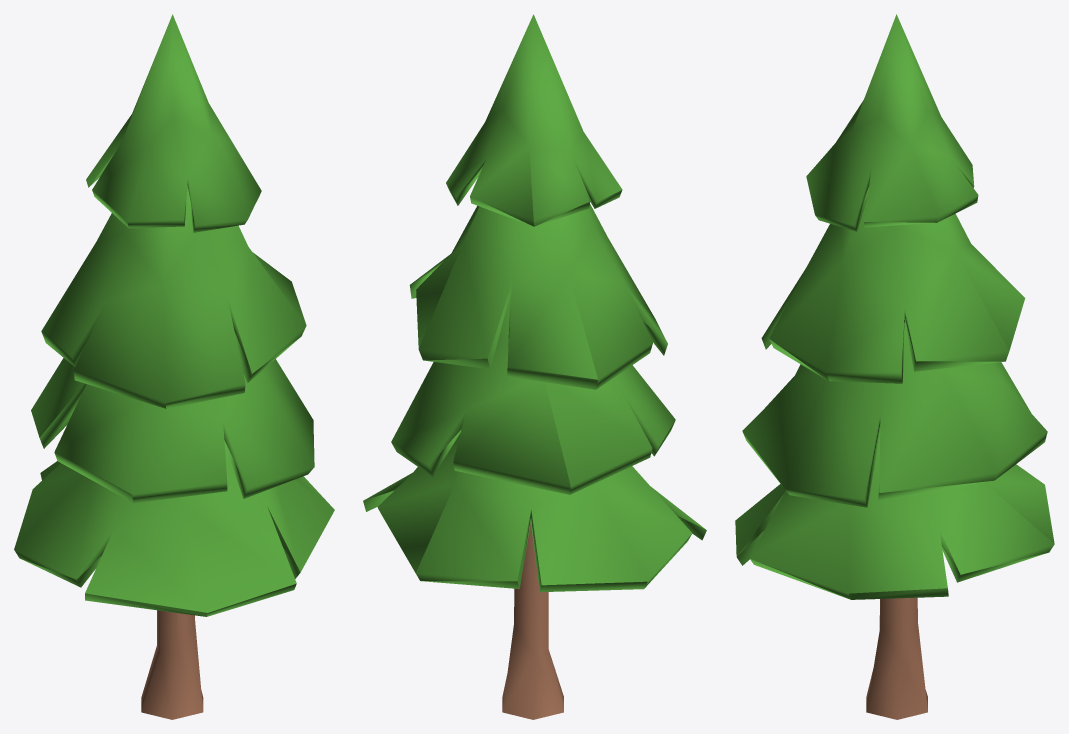
File: pinheiro_pacote.glb
3 views of the same model, side by side, from view 1: azimuth 30°, elevation 25°; view 2: azimuth 150°, elevation 25°; view 3: azimuth 270°, elevation 25° (orthographic).
Parts seen in each view (by area): view 1: pinheiro_pacote; view 2: pinheiro_pacote; view 3: pinheiro_pacote.
Boxes of the visible parts, x1,y1,x2,y2 form: pinheiro_pacote: [14, 14, 334, 719]; pinheiro_pacote: [363, 14, 706, 719]; pinheiro_pacote: [735, 14, 1054, 719].
Size of the model in its own units: 3.29 by 7.73 by 3.24.
1 material, 1 textured.
